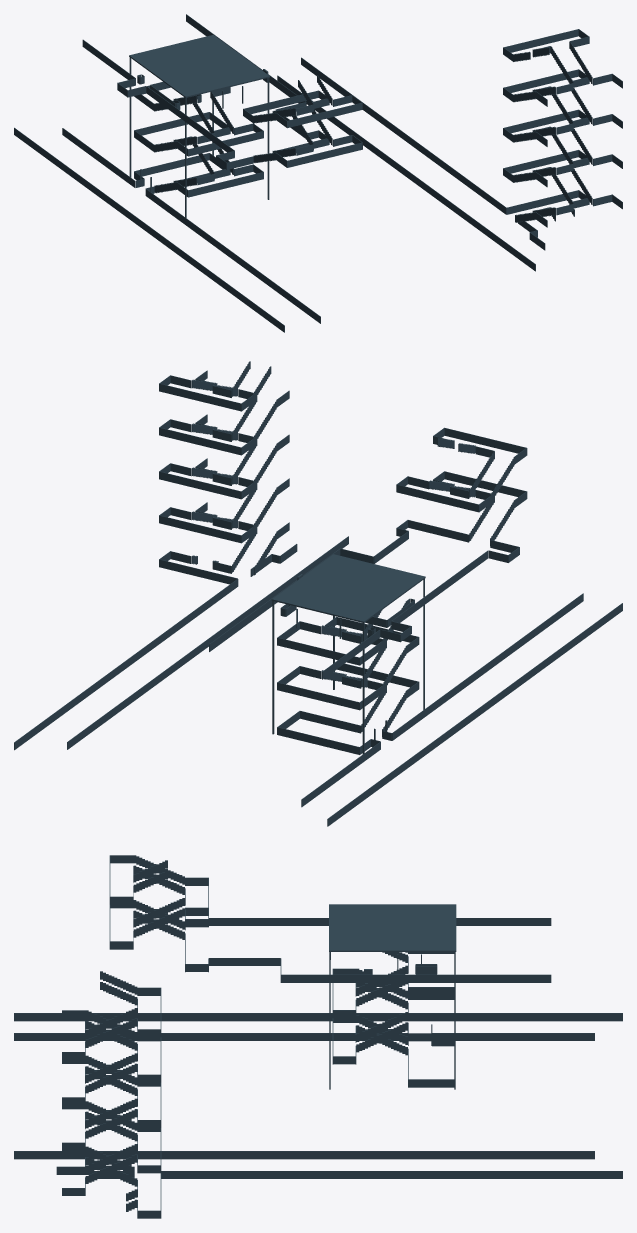
Rendered from v02-03-06-steel.glb.
3 renders of one model, top to bottom at view 1: azimuth 30°, elevation 25°; view 2: azimuth 150°, elevation 25°; view 3: azimuth 270°, elevation 25°, orthographic. The views are drawn at different scales.
Parts seen in each view (by area): view 1: v02-03-06-steel; view 2: v02-03-06-steel; view 3: v02-03-06-steel.
Part boxes in pixels (box(x1,y1,x2,y2)): v02-03-06-steel: box(14, 14, 622, 332); v02-03-06-steel: box(14, 361, 622, 826); v02-03-06-steel: box(14, 855, 622, 1218).
Bounding box in the file's own units: 58.79 × 29.05 × 76.5.
